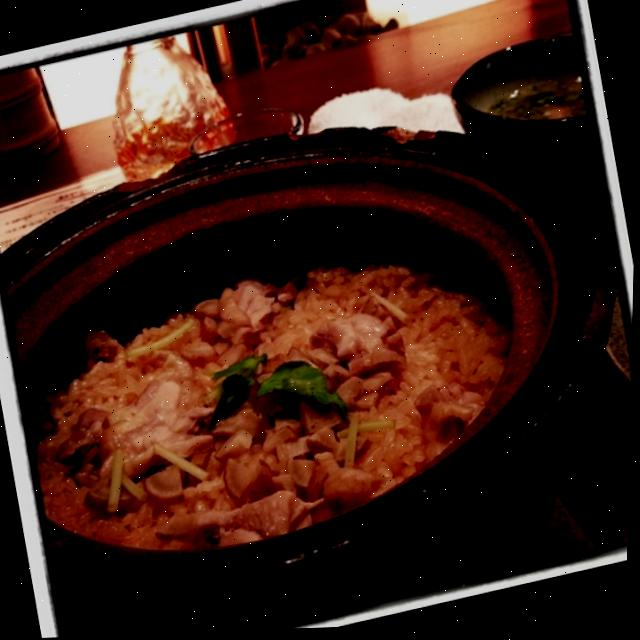鸡蛋料理: (0, 31, 614, 593)
